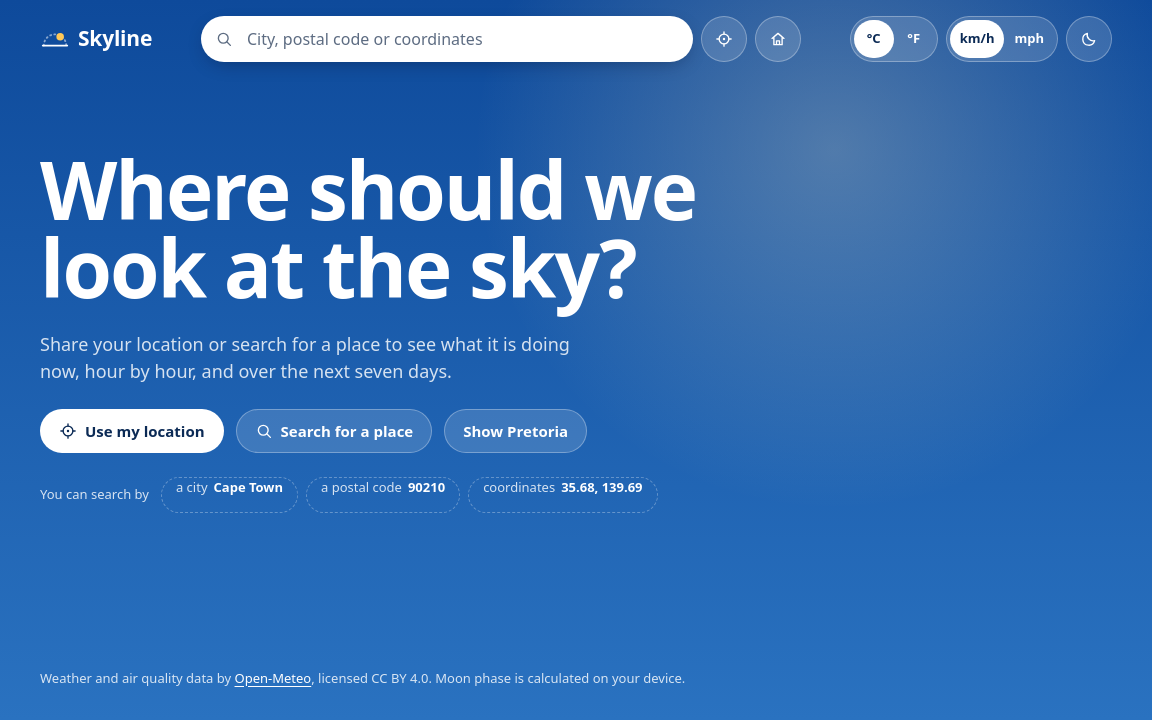
it: search › clears the field with the clear button
Step 1. Type "Pre" into the dropdown named "Search for a place" → (470, 39), box x1=247 y1=16 x2=693 y2=62
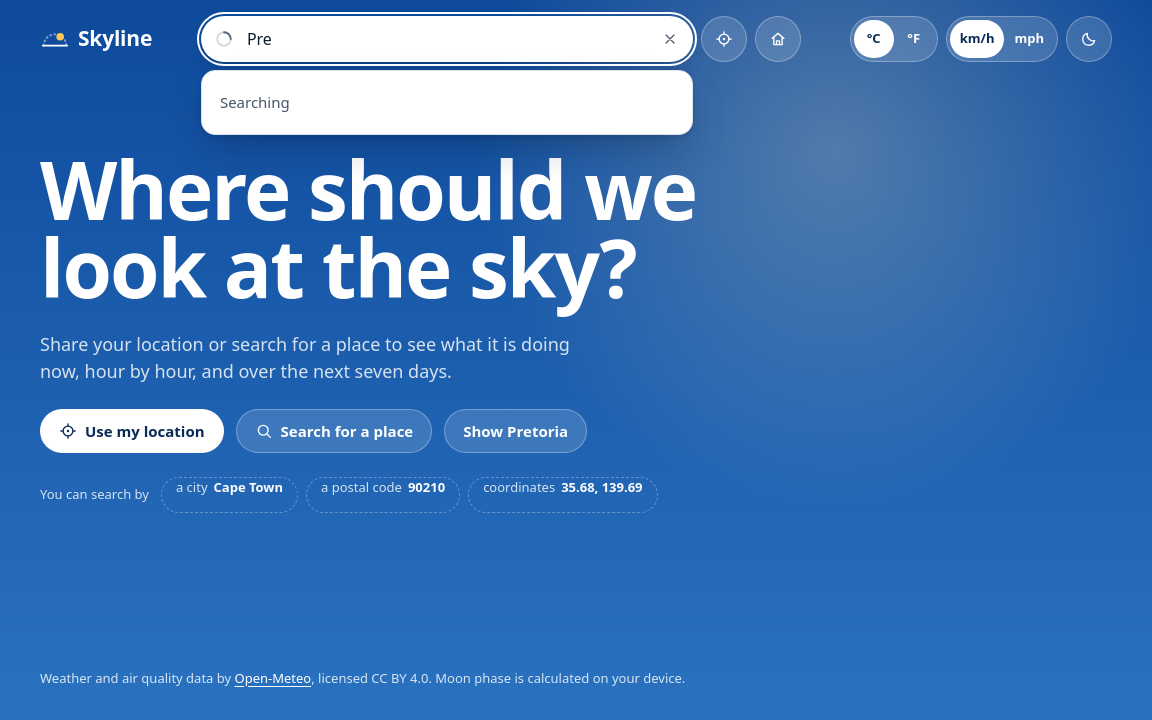
Step 2. Click the button named "Clear search" → click(670, 39), box x1=652 y1=21 x2=688 y2=57
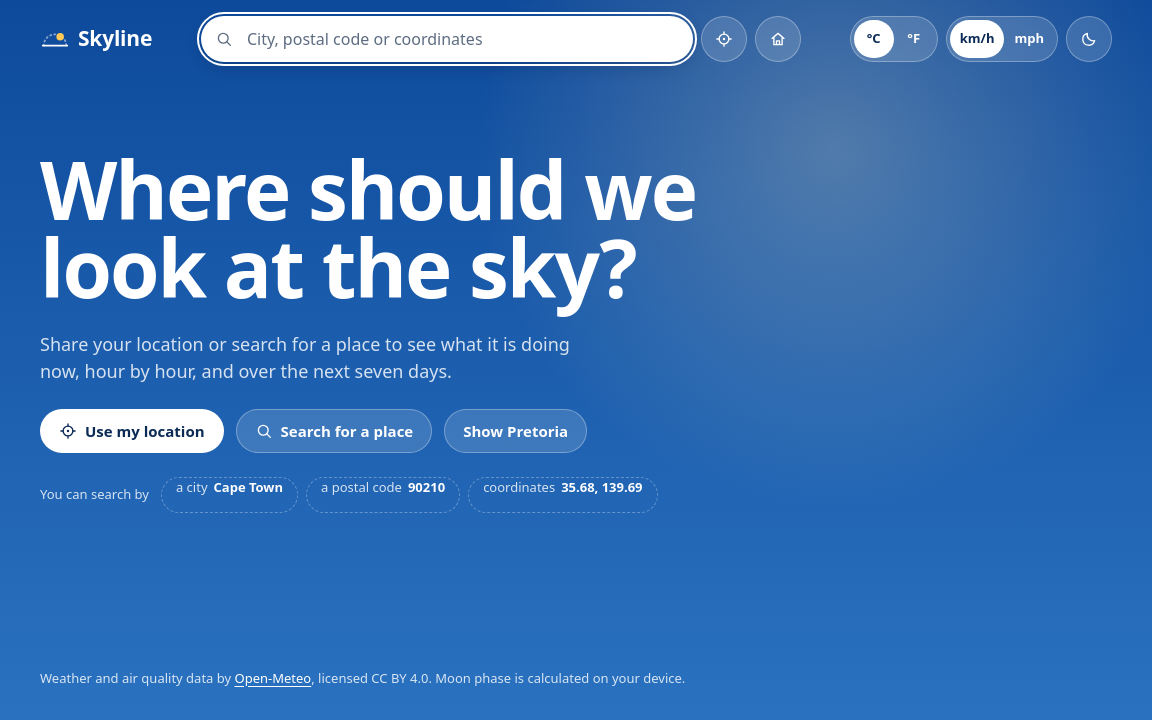
Result: the dropdown named "Search for a place" is empty at x1=247 y1=16 x2=693 y2=62
